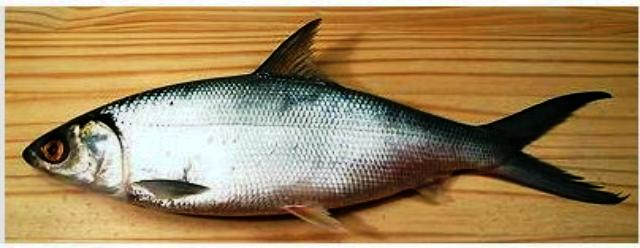Healthy Fish: (21, 19, 624, 228)
